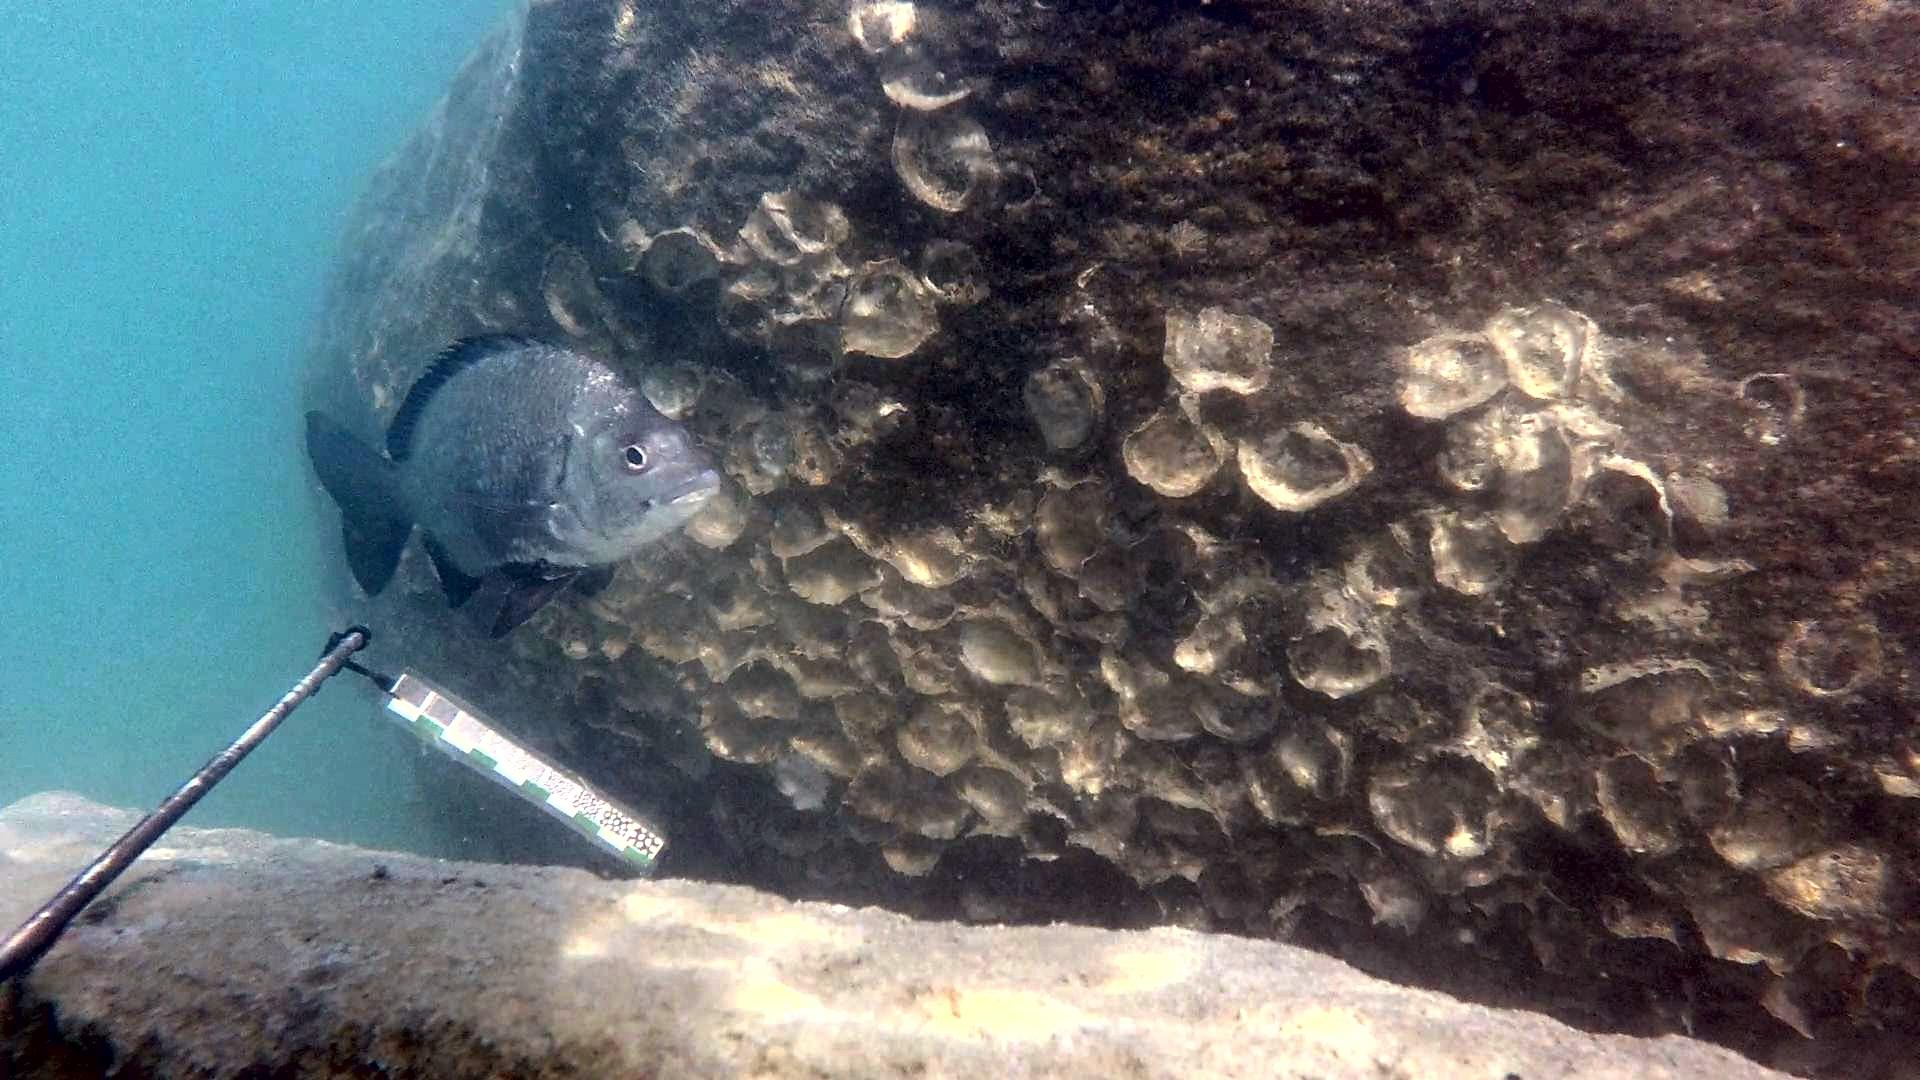acanthopagrus palmaris: (293, 311, 721, 651)
